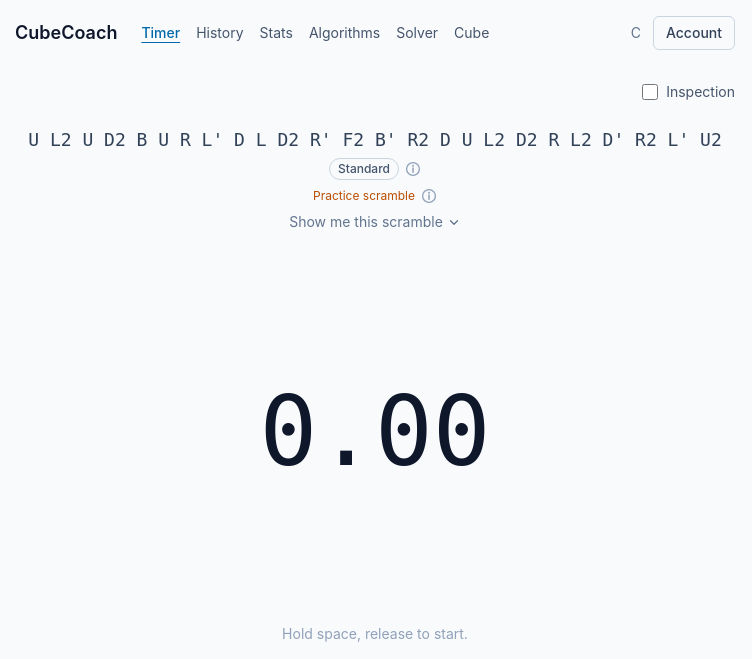
TimerPage inspection toggle › shows the instruction for the mode that is actually enabled
Expected: the text "Hold space, release to start." is shown, [282, 625, 468, 642]
Click the checkbox labelled "Inspection": (650, 92) [642, 84, 658, 100]
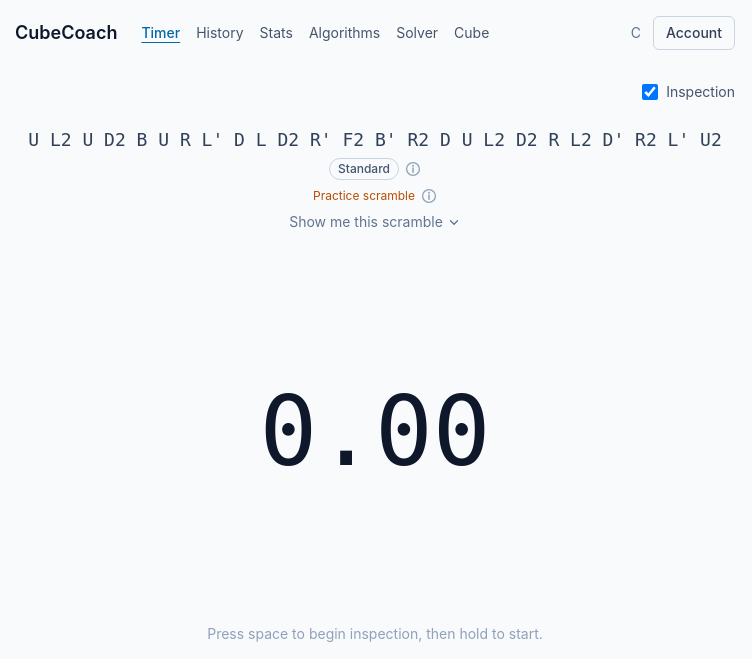
Expected: the text "Press space to begin inspection, then hold to start." is shown, [207, 625, 543, 642]
